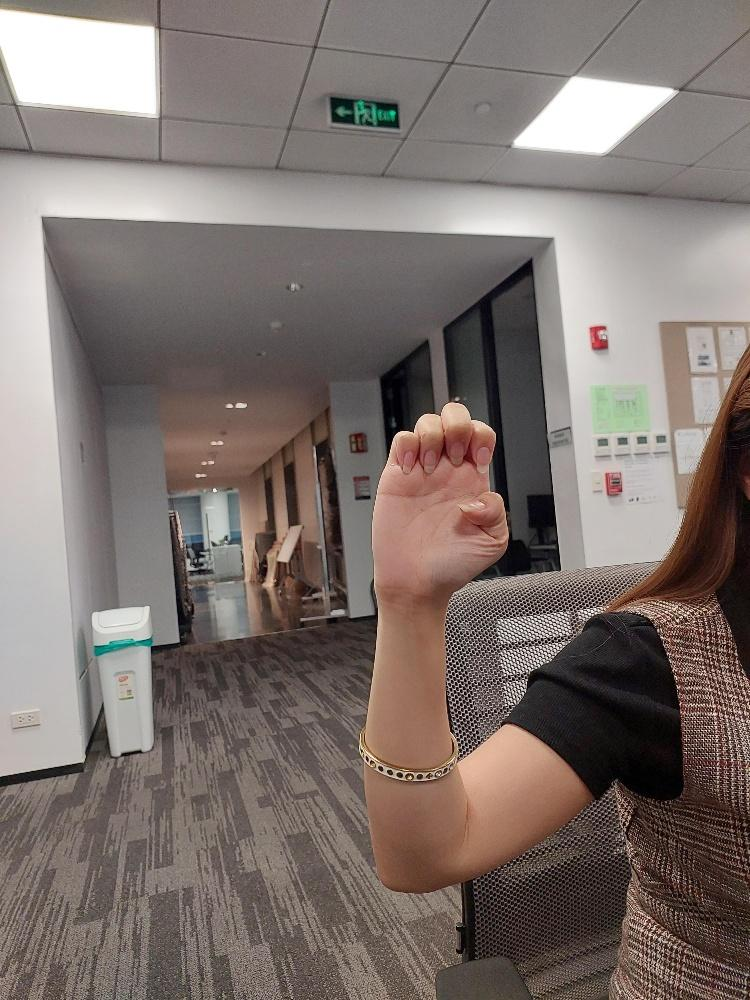e: (370, 399, 510, 613)
